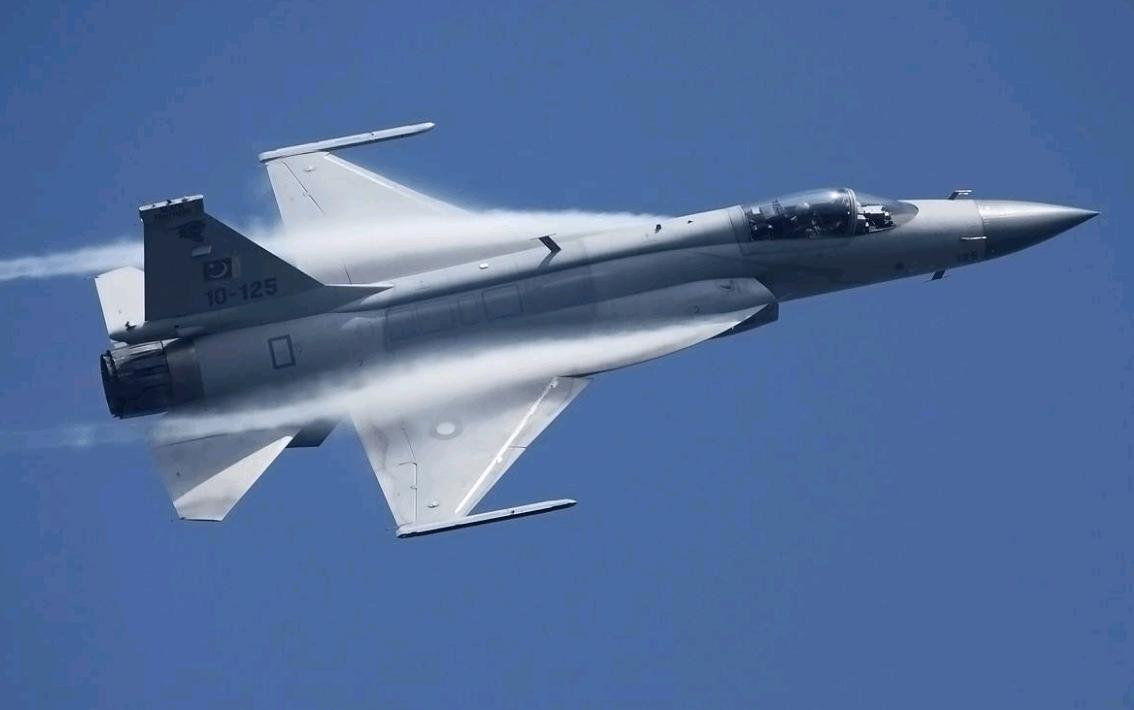airplane: (79, 121, 1087, 537)
